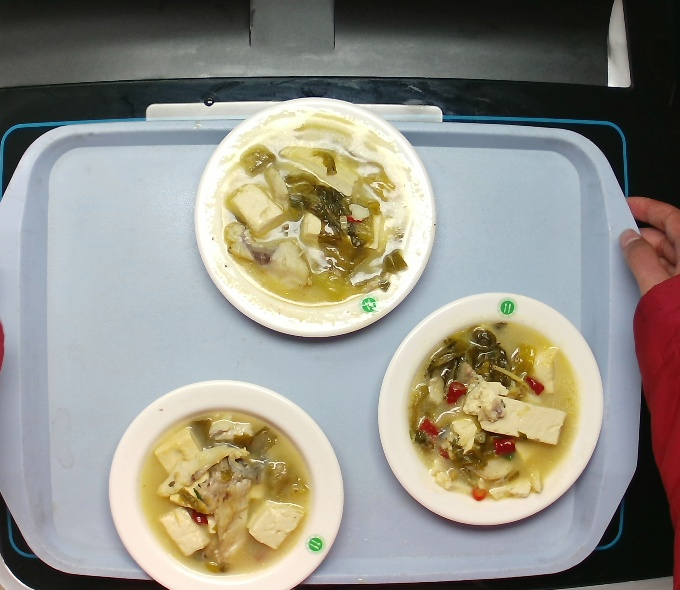wcq-SuanCaiDouFuYu: (207, 112, 413, 322), (396, 314, 580, 509), (142, 410, 309, 571)
